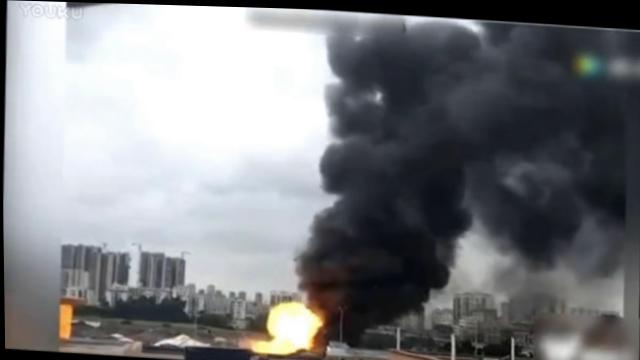fire: (266, 298, 320, 342), (251, 339, 298, 353)
